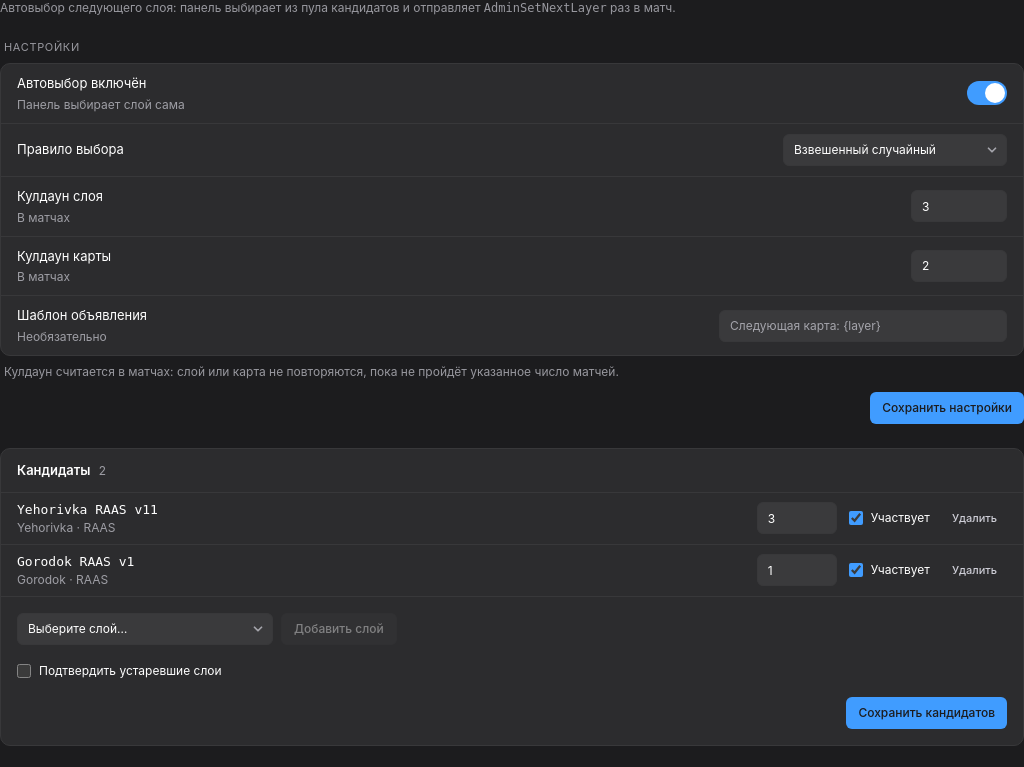
it: MapVotePage — независимые несохранённые правки (#624) › сохранение кандидатов не стирает несохранённую правку в настройках
# An unsaved edit in the settings section above…
Replace the text in the number field named "Кулдаун слоя (матчей)" with "7" at (959, 206), box [911, 190, 1007, 222]
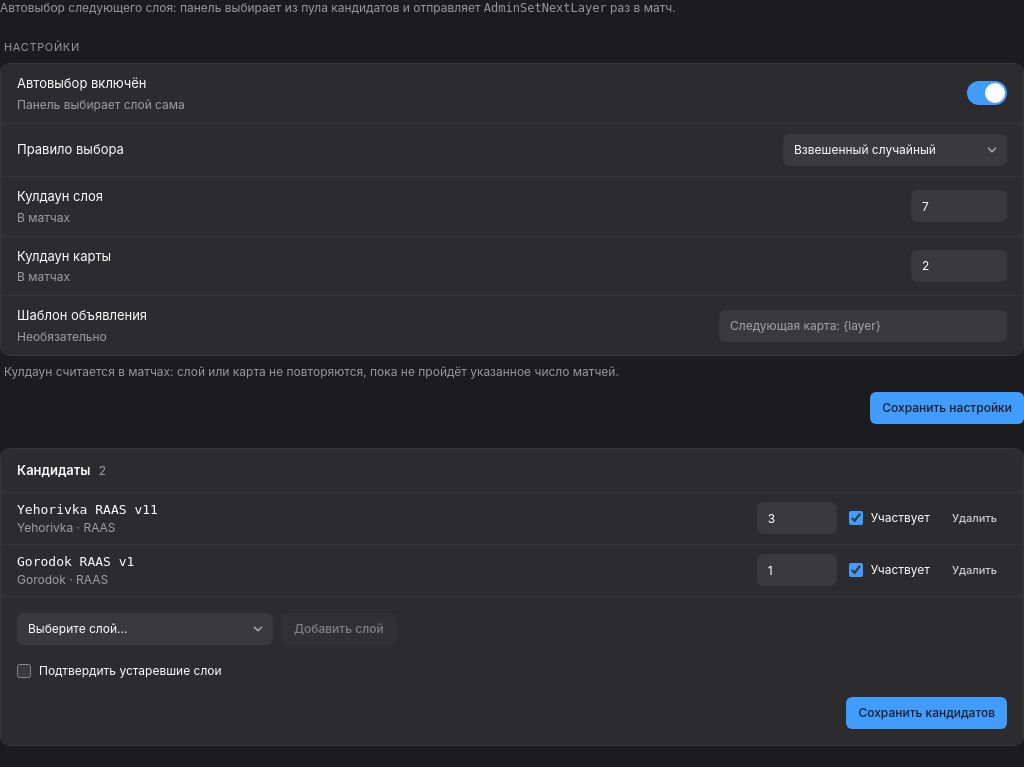
# …must survive saving the candidates section.
Click the button "Сохранить кандидатов" at (927, 713), box [846, 697, 1007, 729]
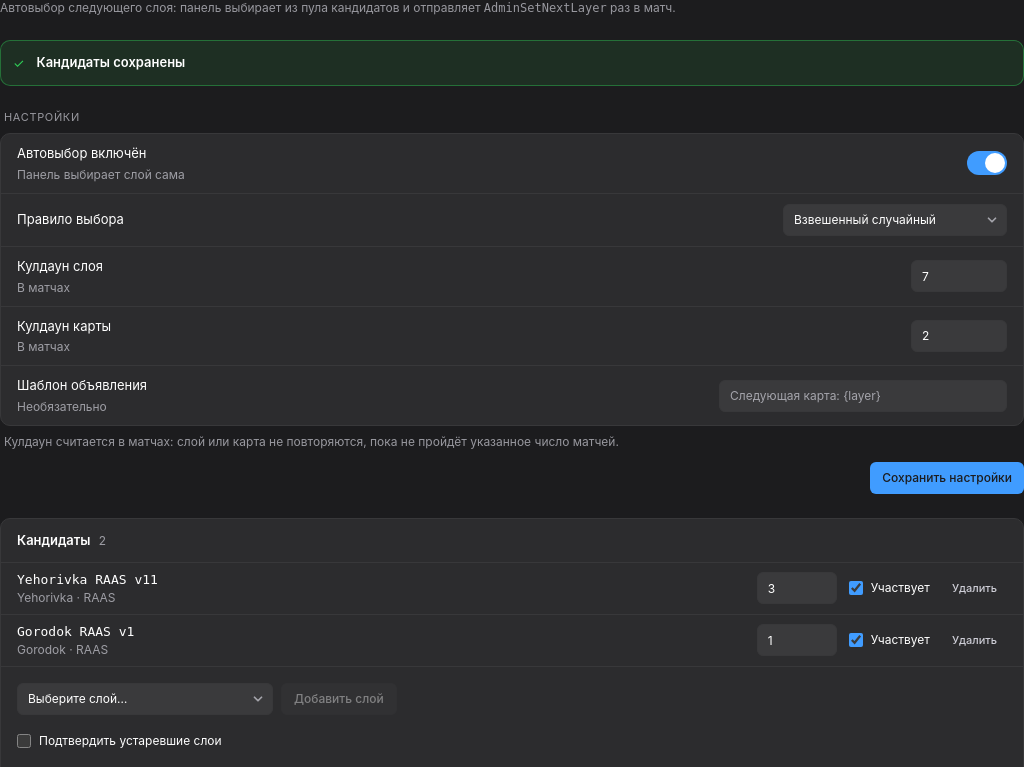
Check: the text "Кандидаты сохранены" is shown, box [36, 54, 185, 70]
